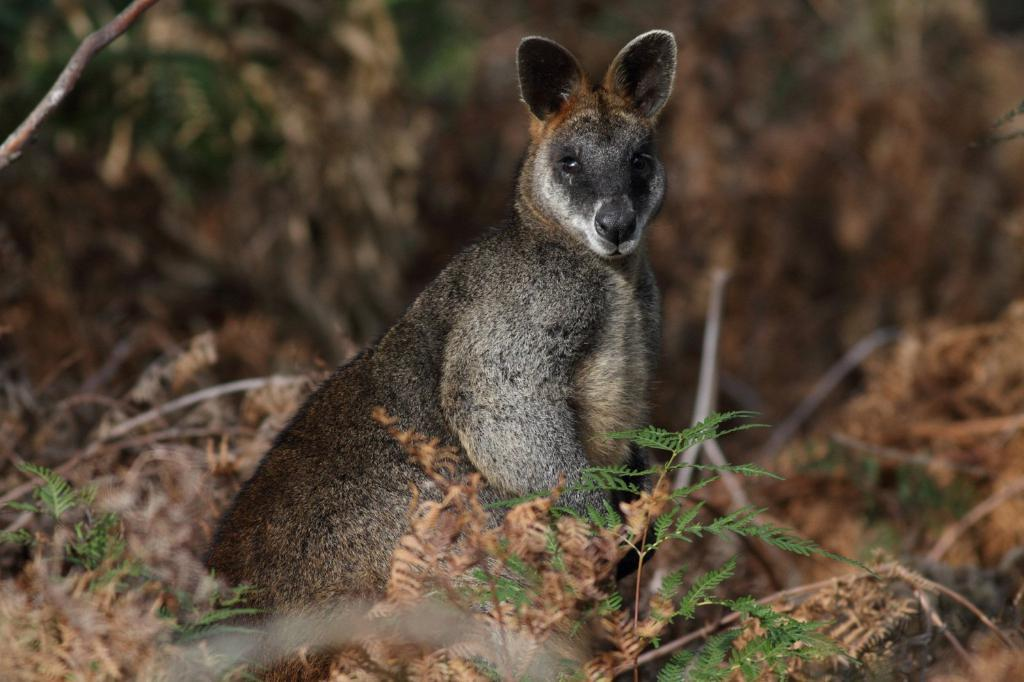kangaroo: (174, 23, 680, 682)
